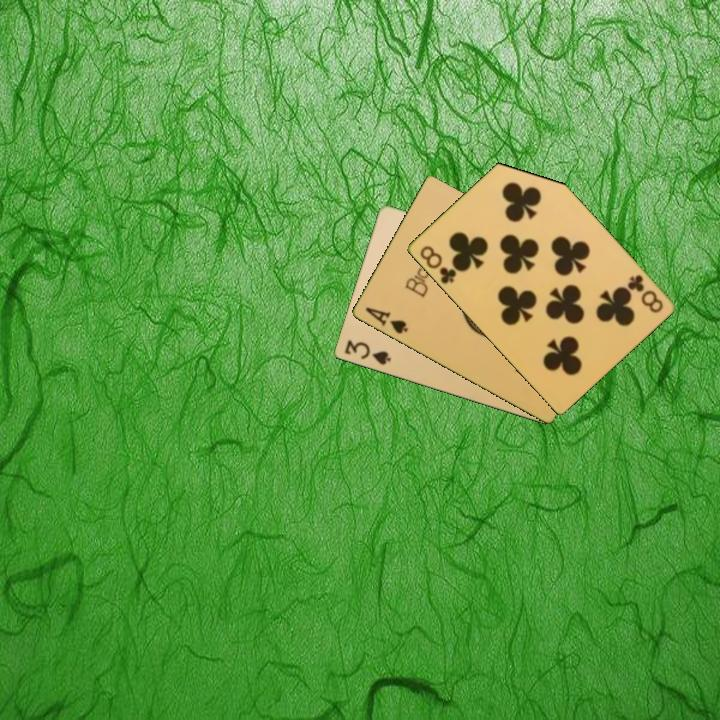3s: (340, 337, 394, 368)
8c: (416, 242, 459, 287), (623, 271, 666, 316)
As: (361, 304, 411, 337)
